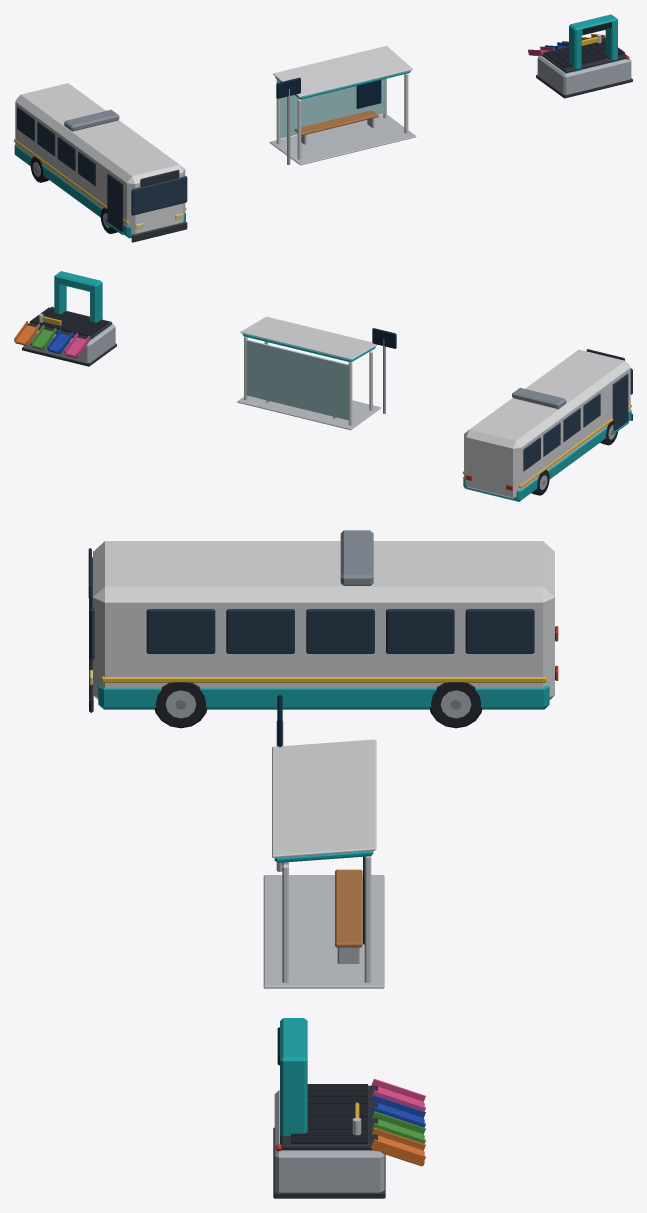
Rendered from skyport-shuttle.glb.
The picture shows the model from 3 angles, top to bottom: view 1: azimuth 30°, elevation 25°; view 2: azimuth 150°, elevation 25°; view 3: azimuth 270°, elevation 25°; orthographic projection. The views are drawn at different scales.
Parts seen in each view (by area): view 1: sp_shuttle_mesh, sp_busstop_mesh, sp_sorter_mesh, sp_shuttle_door_mesh, sp_sorter_belt_mesh; view 2: sp_shuttle_mesh, sp_busstop_mesh, sp_sorter_mesh, sp_sorter_belt_mesh, sp_shuttle_door_mesh; view 3: sp_shuttle_mesh, sp_busstop_mesh, sp_sorter_mesh, sp_sorter_belt_mesh, sp_shuttle_wheel_r_mesh, sp_shuttle_wheel_f_mesh.
Part boxes in pixels (x1=…): sp_shuttle_mesh: x1=14, y1=83, x2=187, y2=242; sp_busstop_mesh: x1=269, y1=46, x2=416, y2=165; sp_sorter_mesh: x1=528, y1=14, x2=632, y2=98; sp_shuttle_door_mesh: x1=106, y1=173, x2=123, y2=234; sp_sorter_belt_mesh: x1=544, y1=38, x2=624, y2=68; sp_shuttle_mesh: x1=462, y1=349, x2=632, y2=501; sp_busstop_mesh: x1=237, y1=316, x2=396, y2=430; sp_sorter_mesh: x1=14, y1=271, x2=116, y2=366; sp_sorter_belt_mesh: x1=29, y1=307, x2=108, y2=336; sp_shuttle_door_mesh: x1=612, y1=373, x2=628, y2=434; sp_shuttle_mesh: x1=88, y1=530, x2=558, y2=712; sp_busstop_mesh: x1=263, y1=695, x2=384, y2=988; sp_sorter_mesh: x1=273, y1=1018, x2=425, y2=1198; sp_sorter_belt_mesh: x1=291, y1=1084, x2=367, y2=1143; sp_shuttle_wheel_r_mesh: x1=429, y1=682, x2=482, y2=728; sp_shuttle_wheel_f_mesh: x1=154, y1=682, x2=207, y2=728.
Size of the model in its own units: 22.69 by 3.31 by 8.54.
